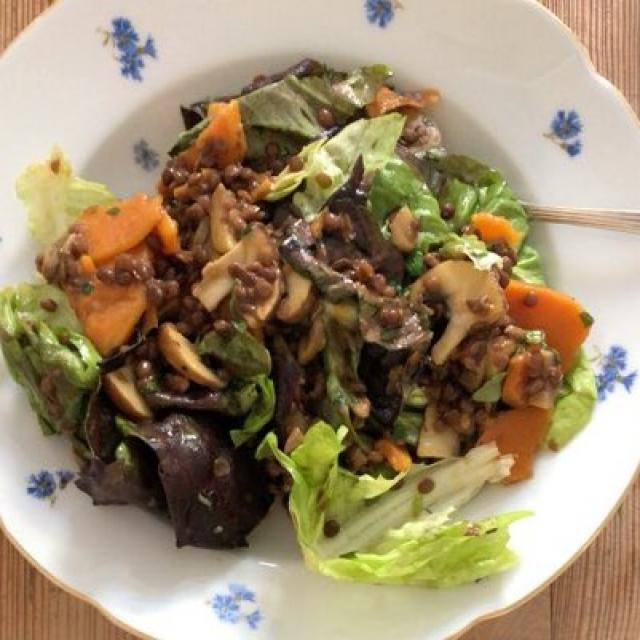mushroom: (112, 177, 522, 422)
